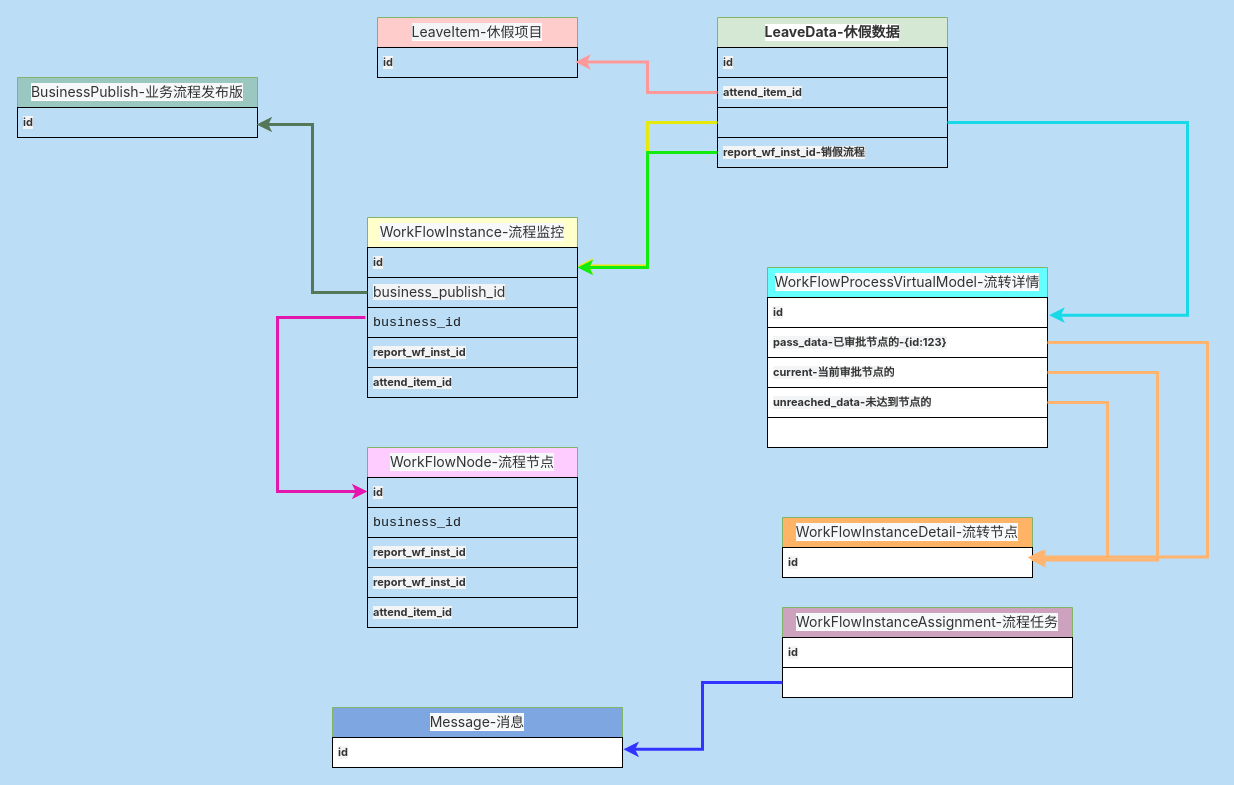
Some shapes in this 1234 by 785 pixel diagram are drawn without their labels. The centre of each missing label's shape, as x and y in pixels:
"assignment" goes at (907,432).
"message_id" goes at (927,682).
"wf_inst_id- 流程" goes at (832,122).
